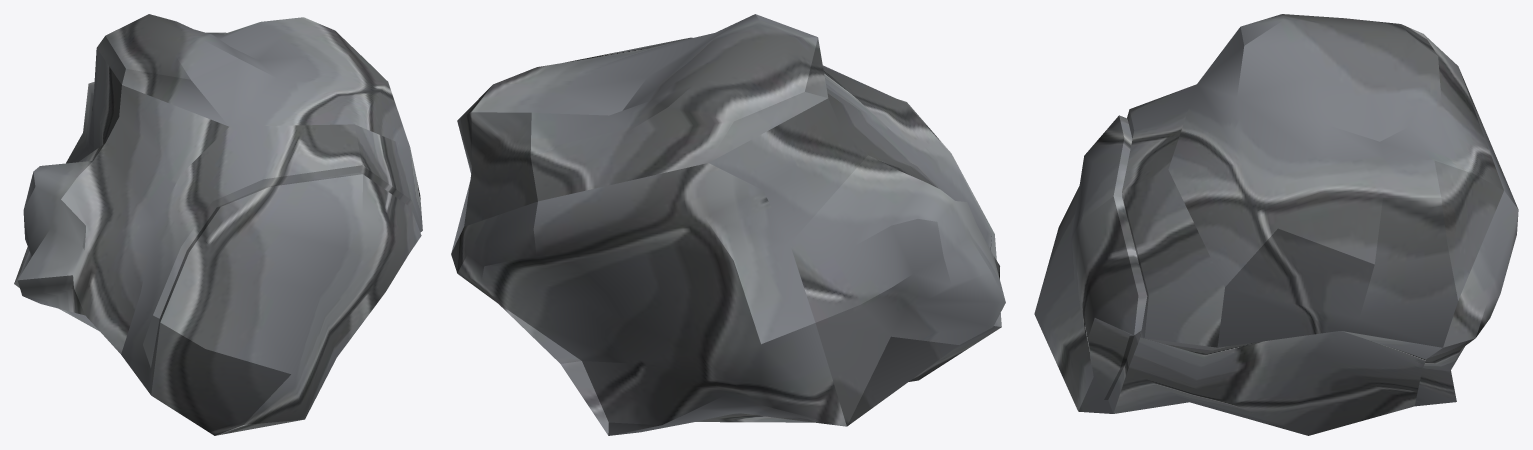
Rendered from Model-rock01.fbx.
The picture shows the model from 3 angles, left to right: view 1: azimuth 30°, elevation 25°; view 2: azimuth 150°, elevation 25°; view 3: azimuth 270°, elevation 25°; orthographic projection. The views are drawn at different scales.
Visible parts, largest first — view 1: rock02; view 2: rock02; view 3: rock02.
Part boxes in pixels (box(x1,y1,x2,y2)): rock02: box(14, 14, 422, 435); rock02: box(451, 14, 1005, 435); rock02: box(1034, 14, 1518, 435).
Bounding box in the file's own units: 3.6 × 2.84 × 3.18.
